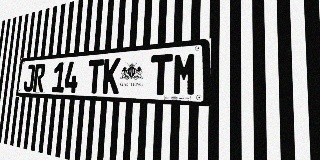1: (52, 62, 66, 93)
4: (64, 61, 79, 93)
J: (23, 64, 35, 92)
K: (102, 58, 121, 94)
M: (172, 52, 197, 96)
R: (33, 64, 46, 92)
T: (150, 54, 173, 95), (87, 59, 104, 94)
